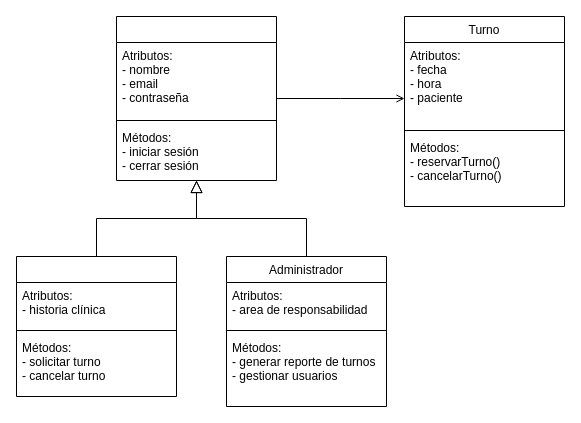
Some shapes in this 581 by 423 pixel diagram are drawn without their labels. Each missing label, with the box of its shape:
Paciente: (16, 256, 176, 396)
Usuario: (116, 16, 276, 180)
